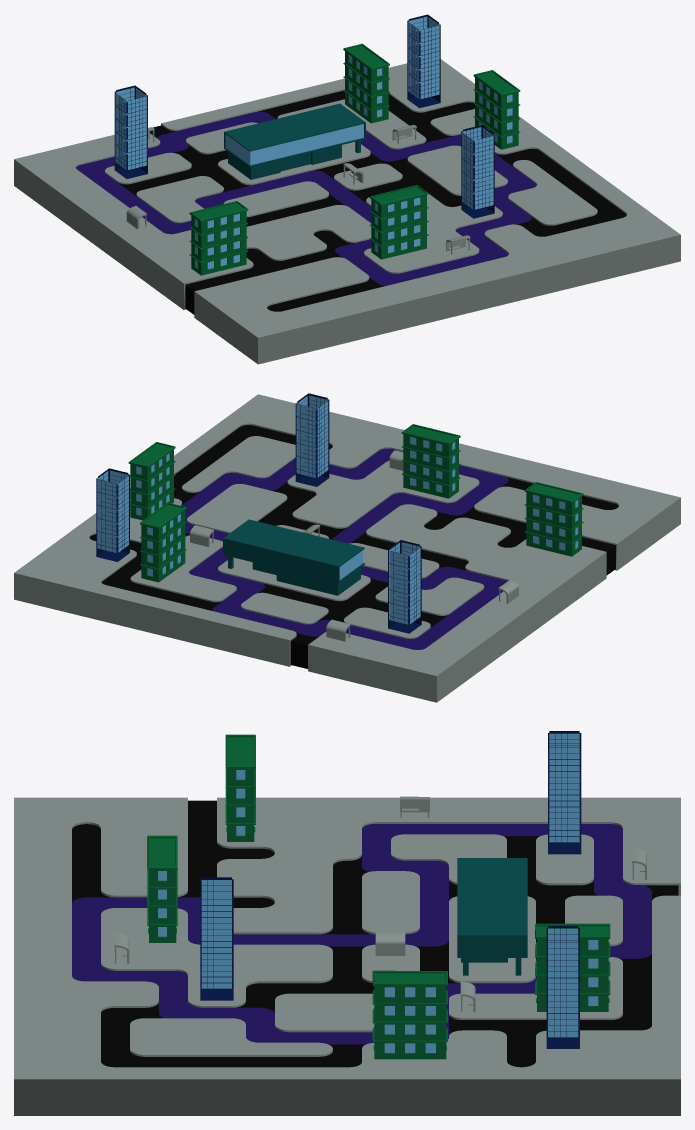
The model's file is map1.glb.
3 renders of one model, top to bottom at view 1: azimuth 30°, elevation 25°; view 2: azimuth 150°, elevation 25°; view 3: azimuth 270°, elevation 25°, orthographic. The views are drawn at different scales.
Visible parts, largest first — view 1: Plane, prod.001, Plane.002, prod, Plane.001, Plane.003; view 2: Plane, prod.001, Plane.002, prod, Plane.001, Plane.003; view 3: Plane, Plane.002, prod.001, prod, Plane.001, Plane.003.
Part boxes in pixels (bbox=[...]): Plane: bbox=[14, 59, 680, 364]; prod.001: bbox=[189, 43, 520, 275]; Plane.002: bbox=[76, 111, 536, 285]; prod: bbox=[114, 14, 494, 218]; Plane.001: bbox=[224, 103, 365, 179]; Plane.003: bbox=[126, 125, 470, 254]; Plane: bbox=[14, 394, 680, 702]; prod.001: bbox=[128, 424, 583, 582]; Plane.002: bbox=[181, 448, 508, 649]; prod: bbox=[96, 393, 421, 633]; Plane.001: bbox=[223, 519, 364, 595]; Plane.003: bbox=[190, 450, 518, 641]; Plane: bbox=[14, 797, 680, 1115]; Plane.002: bbox=[72, 824, 651, 1044]; prod.001: bbox=[147, 734, 610, 1059]; prod: bbox=[200, 731, 581, 1048]; Plane.001: bbox=[457, 858, 527, 975]; Plane.003: bbox=[114, 796, 646, 1012].
Size of the model in its own units: 5.99 by 1.45 by 5.99.
